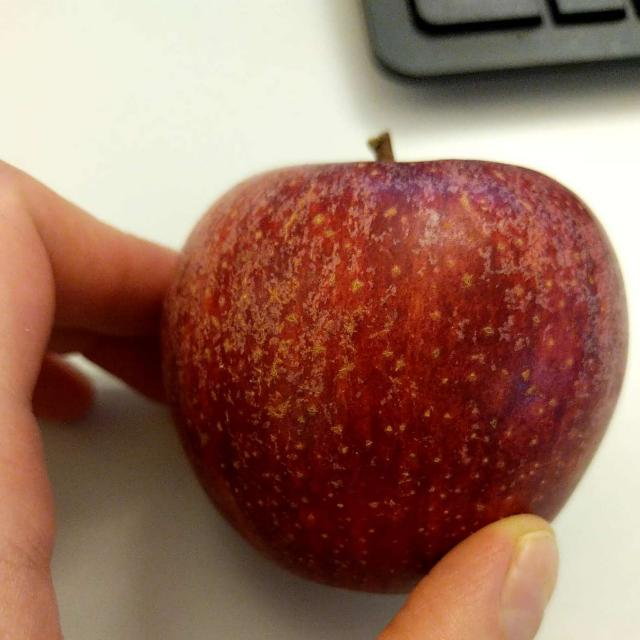apple: (155, 165, 586, 601)
